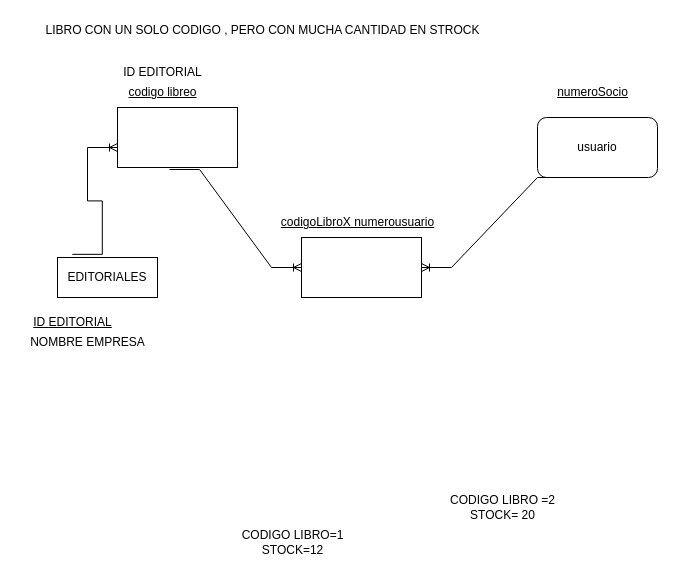
This 675x579 diagram has some shape labels left out. The box of each missing label's shape, as (x1, y1, x2, y2) in pixels:
Libros: (116, 106, 238, 168)
prestamo: (300, 236, 422, 298)
